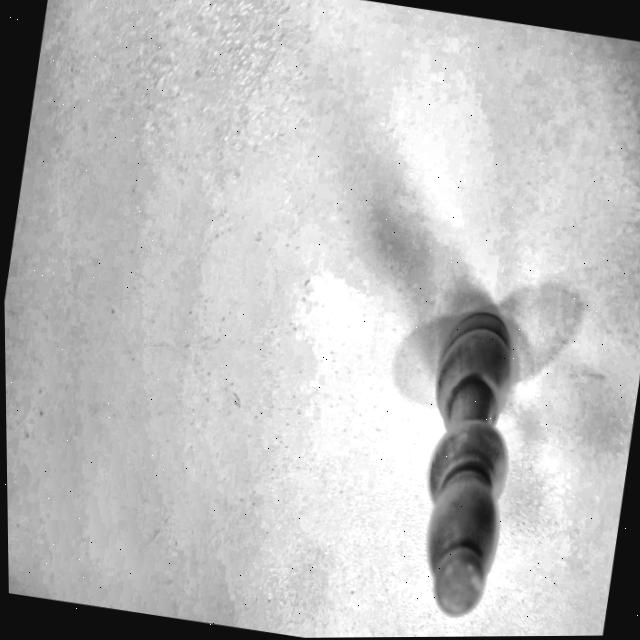white-bishop: (360, 191, 586, 637)
